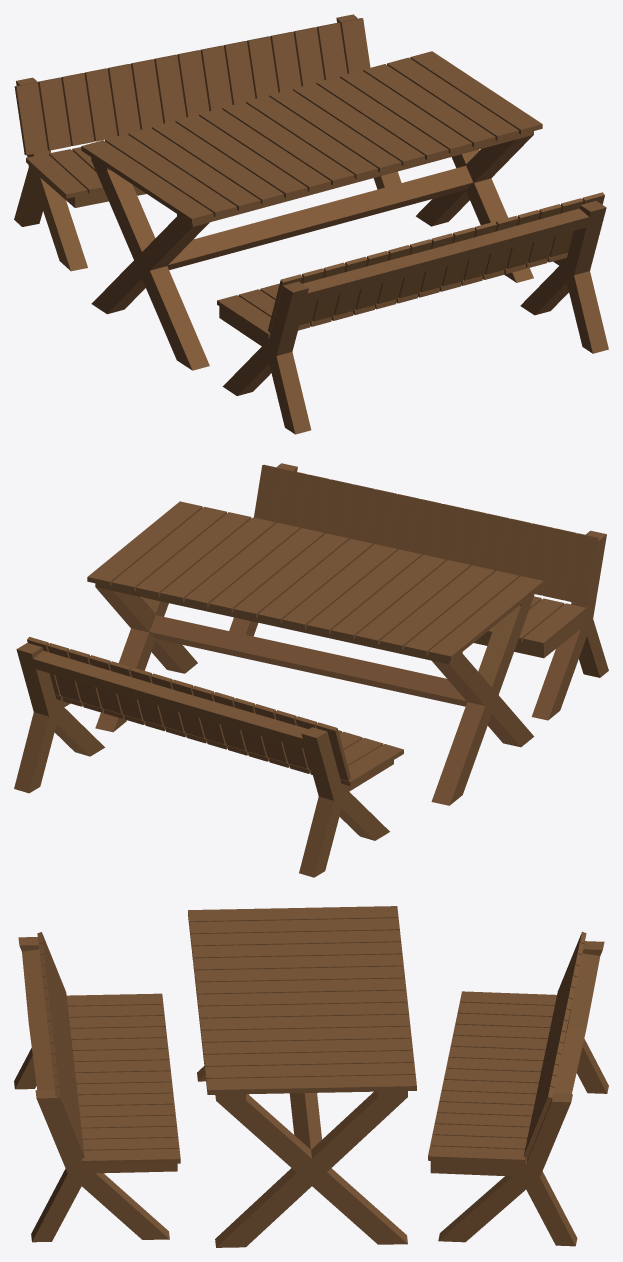
File: lawki.fbx
The picture shows the model from 3 angles, top to bottom: view 1: azimuth 30°, elevation 25°; view 2: azimuth 150°, elevation 25°; view 3: azimuth 270°, elevation 25°; orthographic projection. The views are drawn at different scales.
Visible parts, largest first — view 1: Cube.003, Cube.004, Cube.002; view 2: Cube.003, Cube.004, Cube.002; view 3: Cube.003, Cube.004, Cube.002.
Part boxes in pixels (x1,y1,x2,y2): Cube.003: (81,51,542,370); Cube.004: (14,14,401,271); Cube.002: (217,192,608,434); Cube.003: (87,501,543,805); Cube.004: (14,637,403,877); Cube.002: (229,463,608,720); Cube.003: (188,906,416,1247); Cube.004: (428,931,608,1246); Cube.002: (14,932,180,1242).
Size of the model in its own units: 1506 by 617 by 2057.
